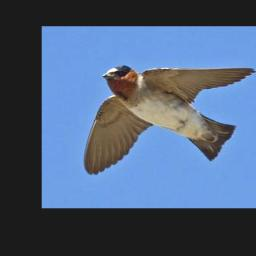Swallow: (81, 65, 256, 176)
